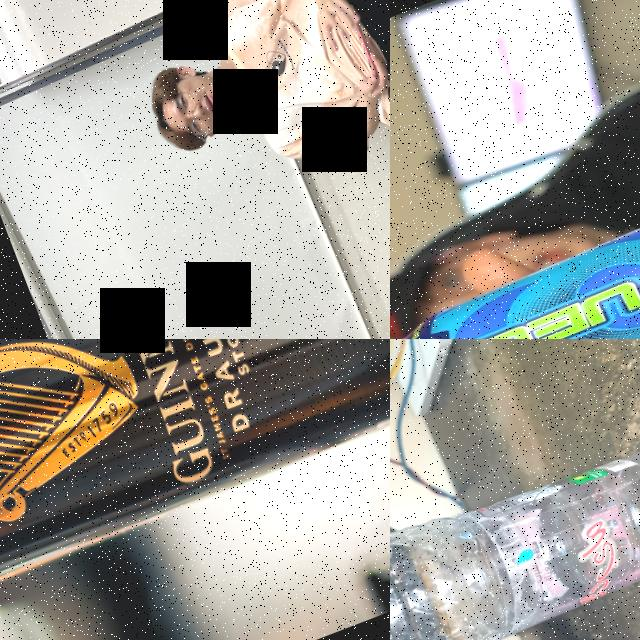bottle: (390, 376, 640, 640)
can: (0, 339, 390, 611), (390, 145, 640, 339)
